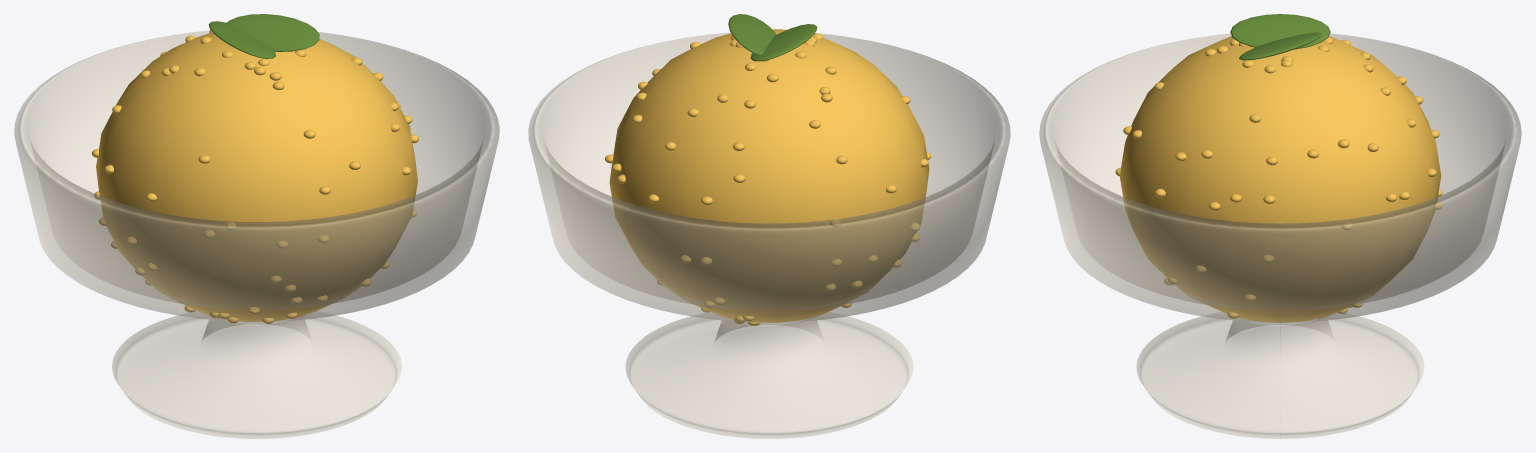
File: 24-yuzu-sorbet.glb
3 renders of one model, left to right at view 1: azimuth 30°, elevation 25°; view 2: azimuth 150°, elevation 25°; view 3: azimuth 270°, elevation 25°, orthographic.
Visible parts, largest first — view 1: 유자 셔벗; view 2: 유자 셔벗; view 3: 유자 셔벗.
Boxes of the visible parts, x1,y1,x2,y2 form: 유자 셔벗: (14, 14, 499, 438); 유자 셔벗: (528, 14, 1010, 438); 유자 셔벗: (1039, 14, 1521, 438).
Size of the model in its own units: 1.44 by 1.16 by 1.44.
